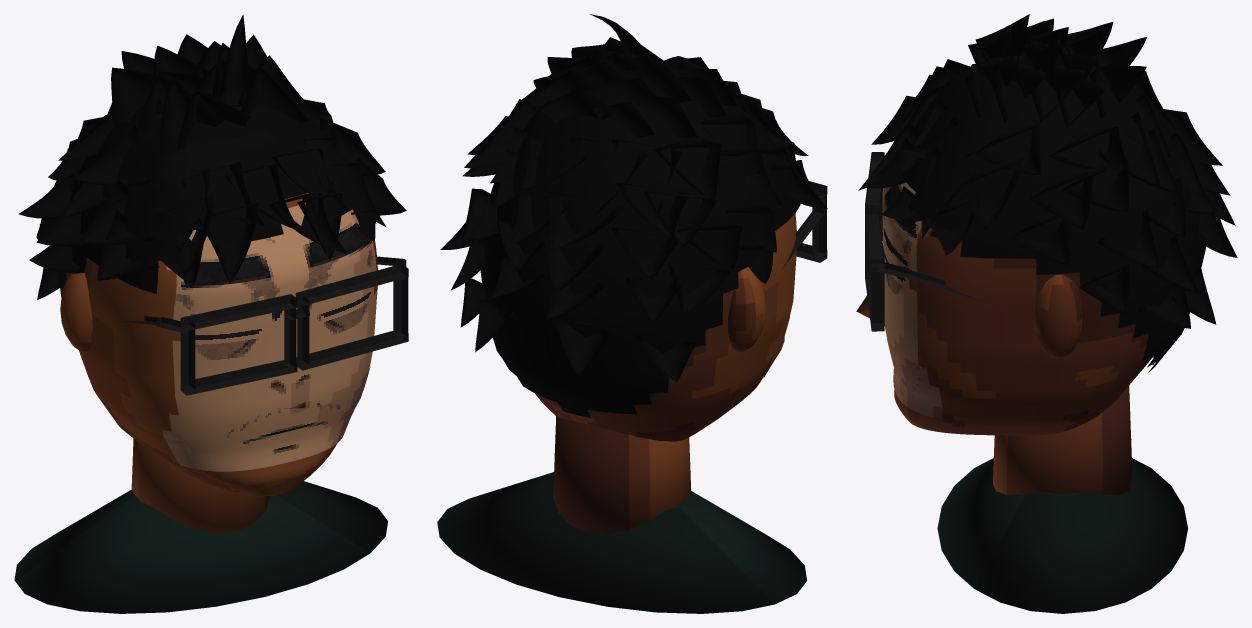
File: nico-v4-head.glb
3 views of the same model, side by side, from view 1: azimuth 30°, elevation 25°; view 2: azimuth 150°, elevation 25°; view 3: azimuth 270°, elevation 25° (orthographic).
Parts seen in each view (by area): view 1: nico_hair_locks, nico_face_blink, nico_shoulders, nico_hair_cap, nico_head, nico_glasses, nico_neck, nico_ear_r; view 2: nico_hair_cap, nico_hair_locks, nico_shoulders, nico_head, nico_neck, nico_ear_r, nico_glasses; view 3: nico_hair_locks, nico_hair_cap, nico_head, nico_shoulders, nico_neck, nico_face_blink, nico_glasses, nico_ear_l.
Part boxes in pixels (x1,y1,x2,y2): nico_hair_locks: (18, 14, 406, 299); nico_face_blink: (162, 203, 377, 471); nico_shoulders: (14, 481, 387, 613); nico_hair_cap: (58, 94, 376, 296); nico_head: (66, 193, 377, 496); nico_glasses: (117, 256, 408, 395); nico_neck: (131, 438, 270, 533); nico_ear_r: (60, 273, 92, 352); nico_hair_cap: (480, 74, 800, 417); nico_hair_locks: (440, 14, 827, 382); nico_shoulders: (437, 472, 806, 613); nico_head: (535, 213, 796, 441); nico_neck: (553, 416, 691, 534); nico_ear_r: (728, 267, 766, 352); nico_glasses: (781, 181, 827, 270); nico_hair_locks: (858, 14, 1237, 328); nico_hair_cap: (902, 57, 1206, 373); nico_head: (894, 227, 1153, 435); nico_shoulders: (937, 458, 1187, 613); nico_neck: (993, 385, 1132, 494); nico_face_blink: (882, 182, 942, 419); nico_glasses: (865, 152, 986, 331); nico_ear_l: (1034, 274, 1084, 358).
Size of the model in its own units: 0.2642 by 0.3795 by 0.2492.
11 materials, 7 textured.
